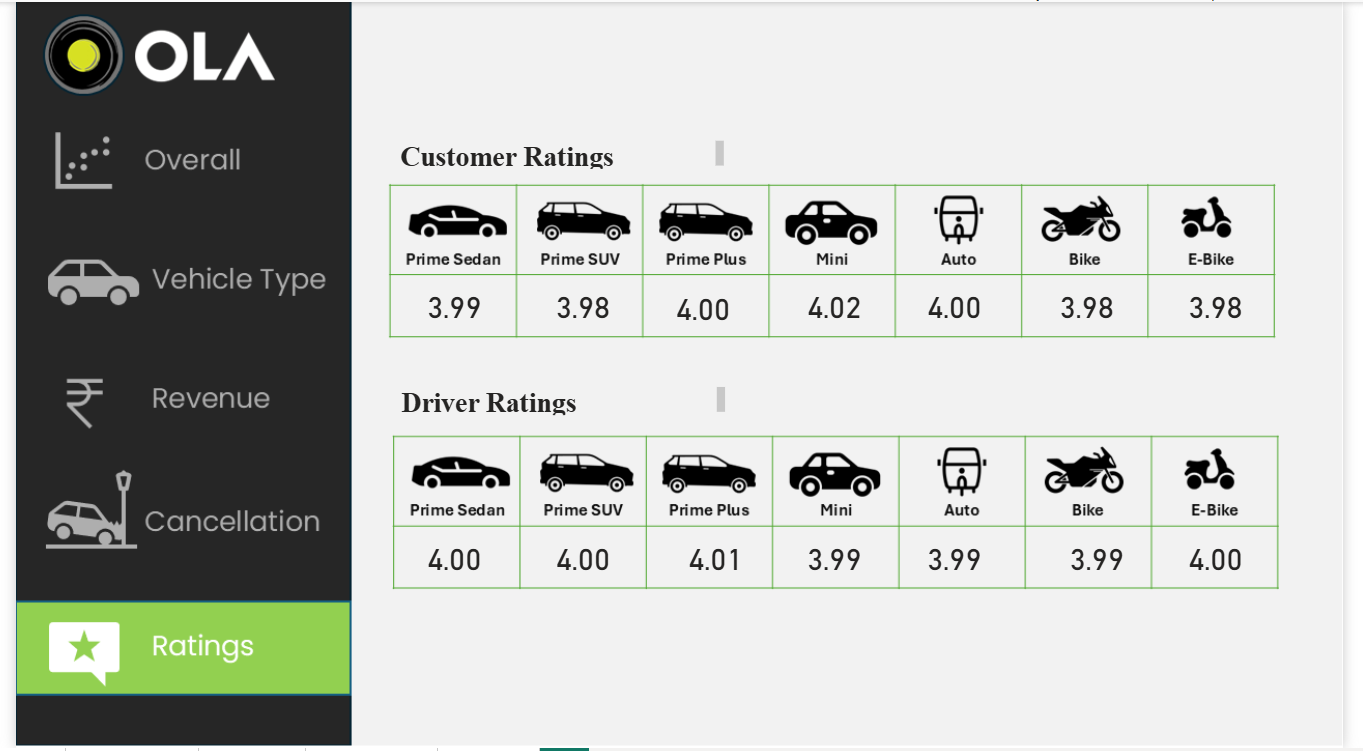

This screenshot's page, from the dashboard's own definition file:
{"tool":"powerbi","page":{"name":"Ratings","canvas":[1280,720],"ordinal":4},"visuals":[{"type":"actionButton","box":[0,218.4,323.3,91.7],"z":0},{"type":"actionButton","box":[0,340.2,323.3,90.5],"z":1000},{"type":"actionButton","box":[0,441.6,323.3,109.8],"z":2000},{"type":"actionButton","box":[0,573.1,323.3,101.3],"z":3000},{"type":"card","fields":{"Values":["Avg(July.Customer_Rating)"]},"box":[365,264.8,115.3,56.3],"z":3001},{"type":"card","fields":{"Values":["Avg(July.Customer_Rating)"]},"box":[489.9,264.8,115.3,56.3],"z":3002},{"type":"card","fields":{"Values":["Avg(July.Customer_Rating)"]},"box":[605.1,266.2,115.3,56.3],"z":3003},{"type":"card","fields":{"Values":["Avg(July.Customer_Rating)"]},"box":[732.8,264.8,115.3,56.3],"z":3004},{"type":"card","fields":{"Values":["Avg(July.Customer_Rating)"]},"box":[848,264.8,115.3,56.3],"z":3005},{"type":"card","fields":{"Values":["Avg(July.Customer_Rating)"]},"box":[1100.5,264.8,115.3,56.3],"z":3006},{"type":"card","fields":{"Values":["Avg(July.Customer_Rating)"]},"box":[975.6,264.8,115.3,56.3],"z":3007},{"type":"card","fields":{"Values":["Avg(July.Driver_Ratings)"]},"box":[365,507.7,115.3,56.3],"z":3008},{"type":"card","fields":{"Values":["Avg(July.Driver_Ratings)"]},"box":[489.9,507.7,115.3,56.3],"z":3009},{"type":"card","fields":{"Values":["Avg(July.Driver_Ratings)"]},"box":[617.5,507.7,115.3,56.3],"z":3010},{"type":"card","fields":{"Values":["Avg(July.Driver_Ratings)"]},"box":[732.8,507.7,115.3,56.3],"z":3011},{"type":"card","fields":{"Values":["Avg(July.Driver_Ratings)"]},"box":[848,507.7,115.3,56.3],"z":3012},{"type":"card","fields":{"Values":["Avg(July.Driver_Ratings)"]},"box":[985.3,507.7,115.3,56.3],"z":3013},{"type":"card","fields":{"Values":["Avg(July.Driver_Ratings)"]},"box":[1100.5,507.7,115.3,56.3],"z":3014},{"type":"textbox","box":[365,129,322.5,37],"z":3015},{"type":"textbox","box":[366.4,366.4,322.5,37],"z":3016}]}

Visuals, with their boxes on the page's 1280x720 design canvas (x1, y1, x2, y2). These are canvas units, not pixel positions in the 1363x751 screenshot, which may show the page scaled, cropped or inside an application window:
actionButton: (0,218,323,310)
actionButton: (0,340,323,431)
actionButton: (0,442,323,551)
actionButton: (0,573,323,674)
card - Avg(July.Customer_Rating): (365,265,480,321)
card - Avg(July.Customer_Rating): (490,265,605,321)
card - Avg(July.Customer_Rating): (605,266,720,322)
card - Avg(July.Customer_Rating): (733,265,848,321)
card - Avg(July.Customer_Rating): (848,265,963,321)
card - Avg(July.Customer_Rating): (1100,265,1216,321)
card - Avg(July.Customer_Rating): (976,265,1091,321)
card - Avg(July.Driver_Ratings): (365,508,480,564)
card - Avg(July.Driver_Ratings): (490,508,605,564)
card - Avg(July.Driver_Ratings): (618,508,733,564)
card - Avg(July.Driver_Ratings): (733,508,848,564)
card - Avg(July.Driver_Ratings): (848,508,963,564)
card - Avg(July.Driver_Ratings): (985,508,1101,564)
card - Avg(July.Driver_Ratings): (1100,508,1216,564)
textbox: (365,129,688,166)
textbox: (366,366,689,403)
